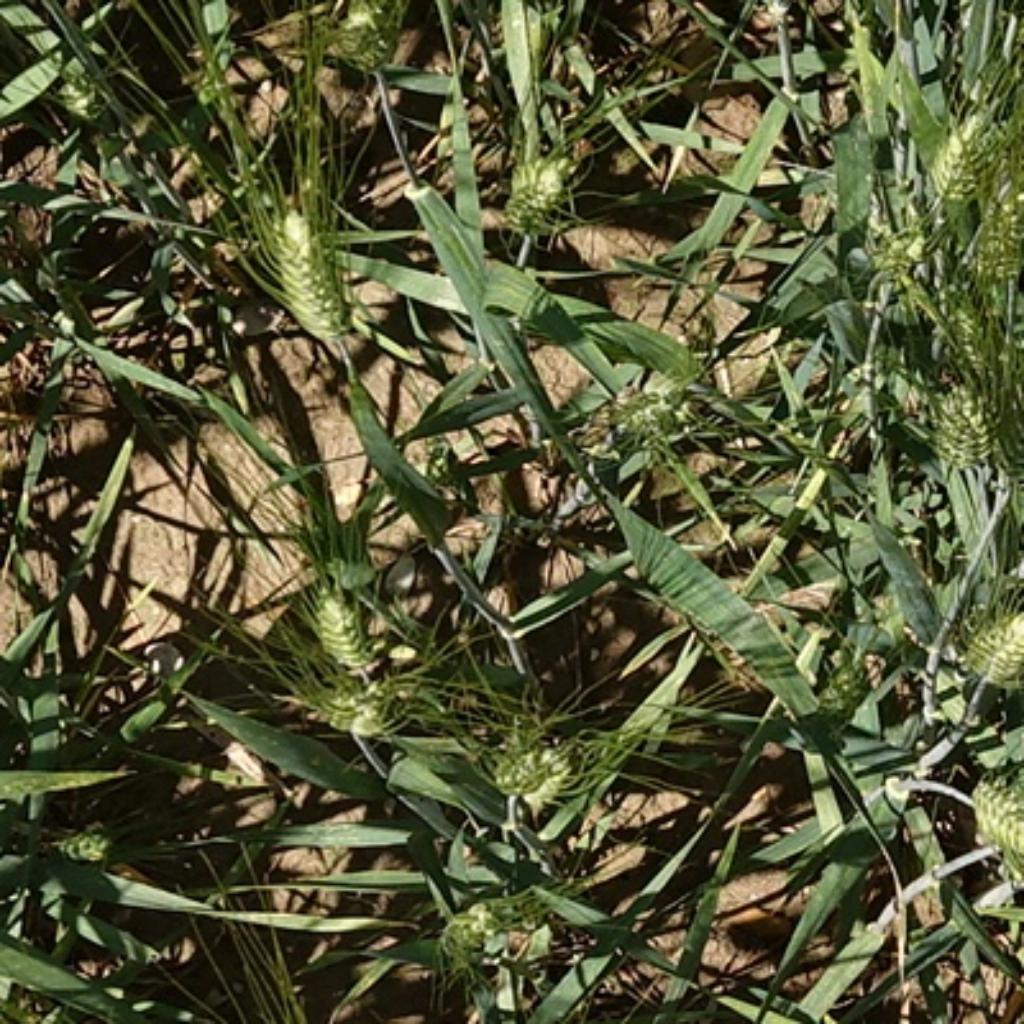0-0: (250, 176, 366, 337), (491, 130, 593, 250), (279, 650, 417, 734), (46, 23, 145, 135), (583, 360, 698, 455), (476, 706, 578, 803), (435, 883, 547, 971), (924, 360, 1006, 476), (921, 97, 1000, 212), (302, 570, 381, 663), (949, 588, 1024, 680), (962, 770, 1024, 880), (939, 294, 1008, 378), (965, 186, 1024, 284), (321, 3, 398, 67), (858, 230, 931, 279), (995, 378, 1024, 496), (49, 823, 118, 869), (826, 659, 871, 727)
